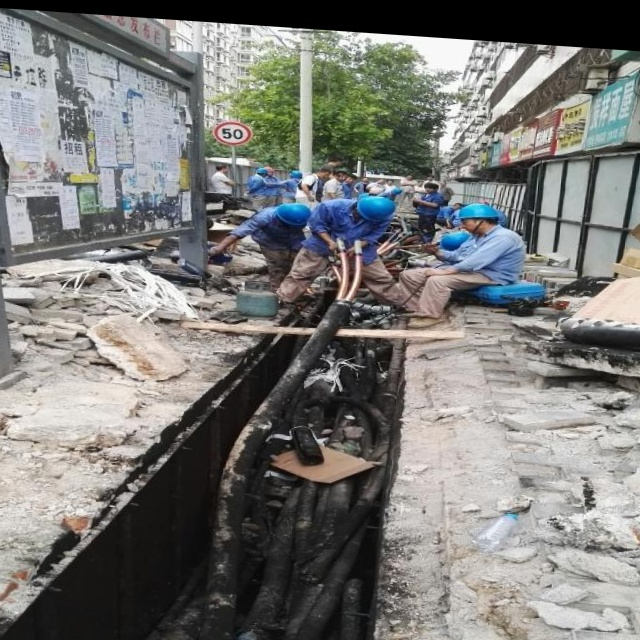Con_Casco: (354, 195, 399, 223), (455, 203, 503, 229)
Sin_Chaleco: (457, 230, 536, 281)
